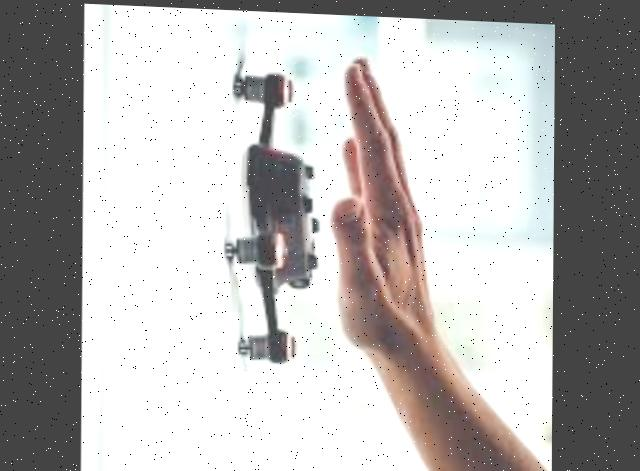drone: (203, 25, 345, 390)
